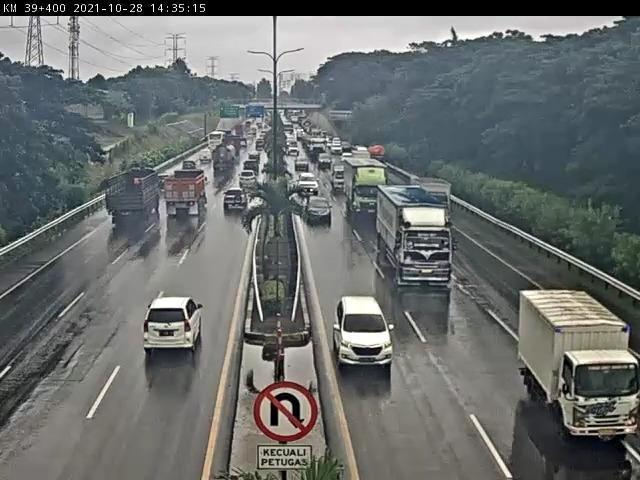bus: (205, 131, 222, 152), (289, 140, 302, 159)
car: (136, 287, 223, 380), (336, 292, 386, 351), (307, 197, 332, 226), (223, 185, 243, 218), (238, 175, 261, 196), (297, 167, 314, 192), (237, 164, 265, 176), (330, 161, 341, 187), (191, 151, 209, 165), (173, 164, 194, 176), (296, 155, 311, 169), (221, 133, 234, 147), (245, 153, 259, 165), (322, 151, 329, 167)
truck: (521, 287, 640, 449), (383, 180, 447, 275), (98, 165, 165, 239), (344, 160, 398, 220), (168, 170, 203, 221), (214, 146, 237, 176)
